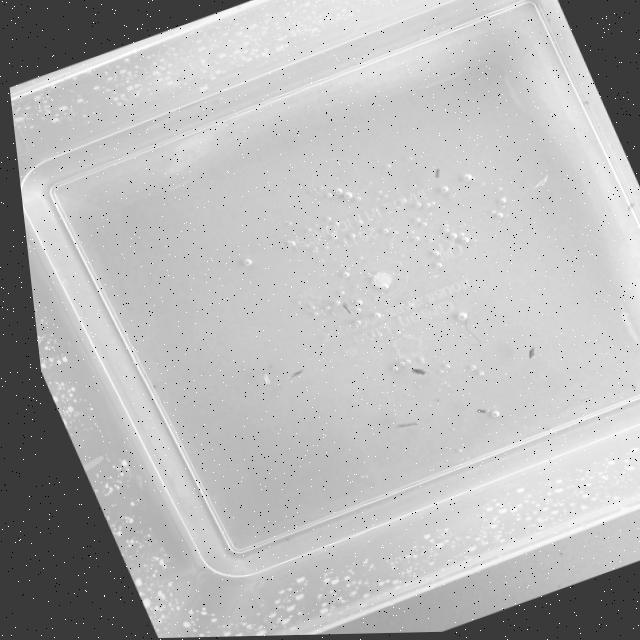Wereng: (387, 412, 425, 437), (402, 356, 434, 382), (253, 366, 280, 392), (280, 363, 310, 385), (518, 339, 544, 364), (424, 159, 450, 183), (334, 294, 359, 318), (467, 402, 489, 421)
